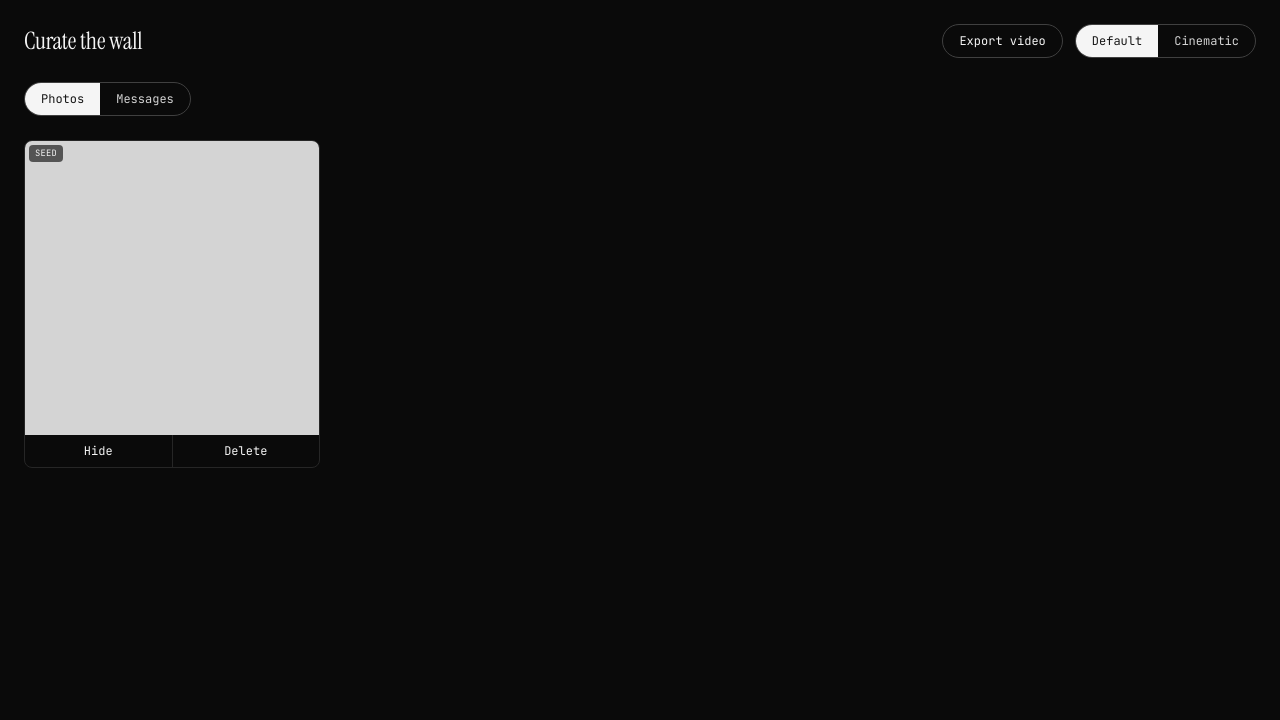
Scenario: AdminApp video export › disables the button and shows progress while running
Click the button "Export video" at (1003, 41), box [942,24,1063,58]
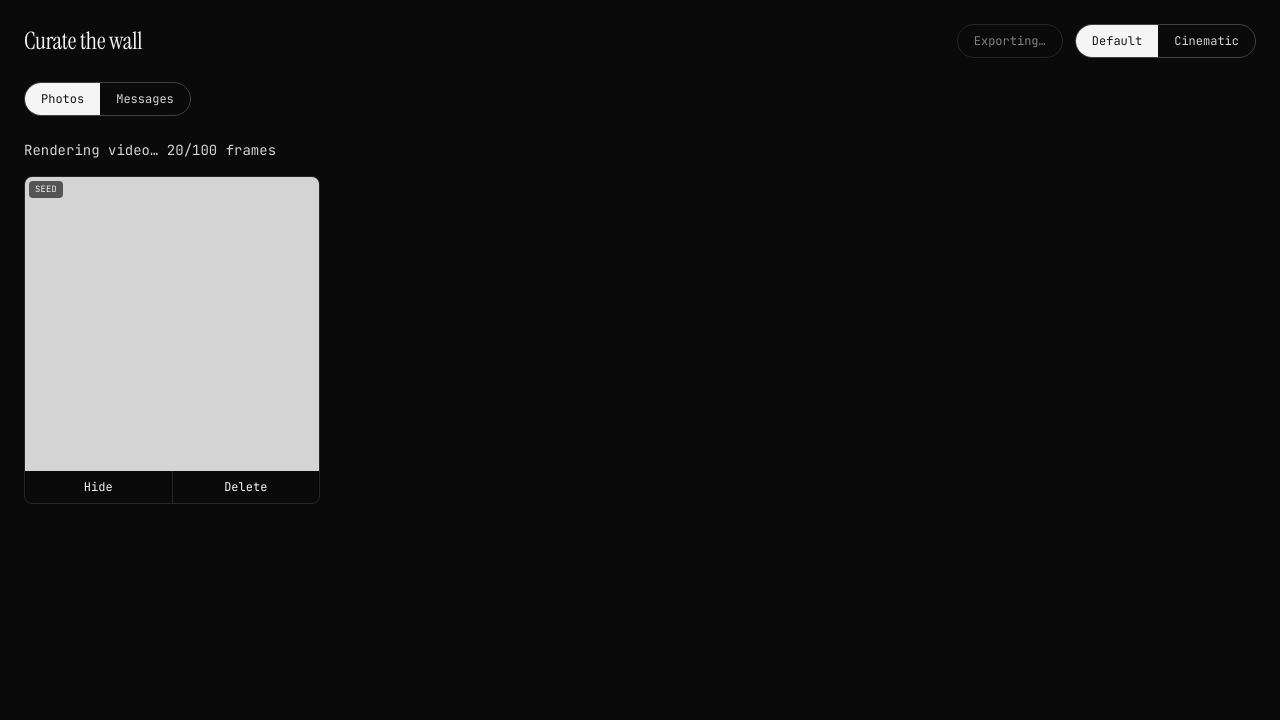
Now the button "Exporting…" is disabled, box [957,24,1063,58]
